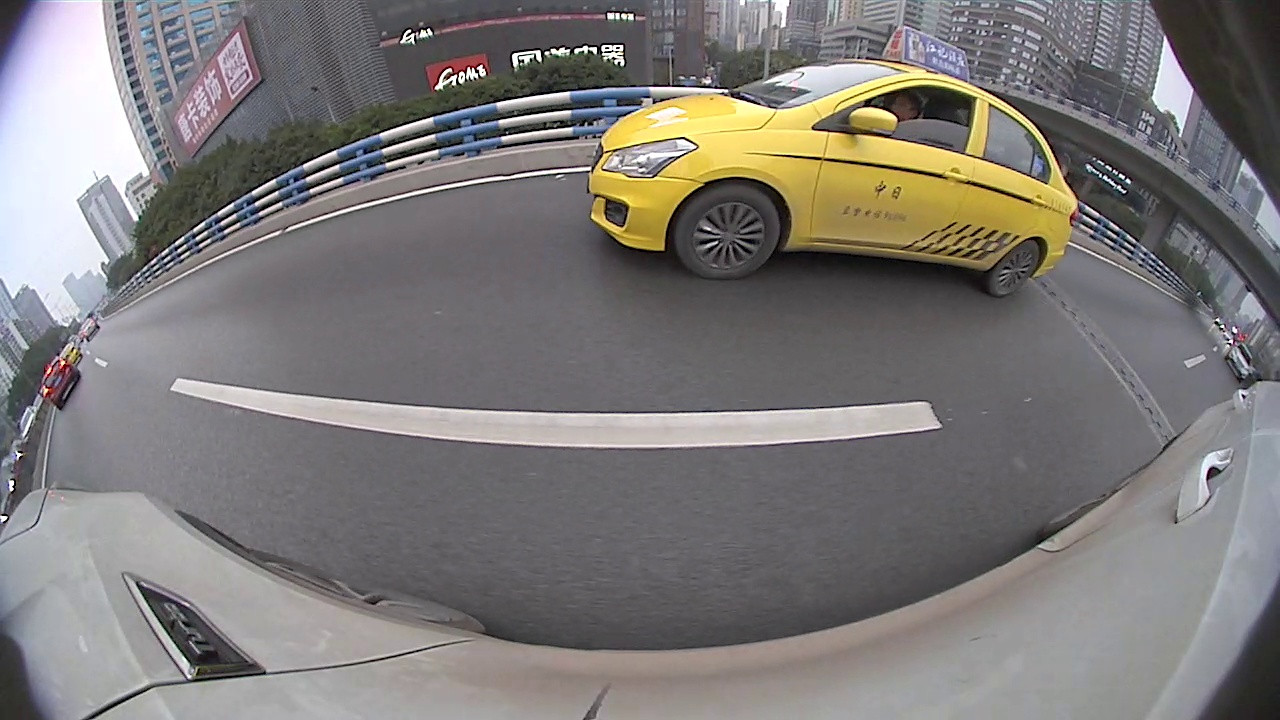bus: (665, 150, 695, 172)
car: (76, 134, 486, 402), (679, 109, 1001, 292), (965, 167, 1191, 341), (1155, 260, 1279, 403), (450, 149, 565, 218), (596, 141, 683, 211), (550, 157, 592, 194)
front: (453, 200, 486, 251), (677, 181, 700, 224), (555, 178, 569, 204)
rear: (220, 266, 317, 378), (764, 198, 815, 280), (1046, 265, 1104, 333), (1198, 342, 1236, 389), (525, 186, 539, 216)
